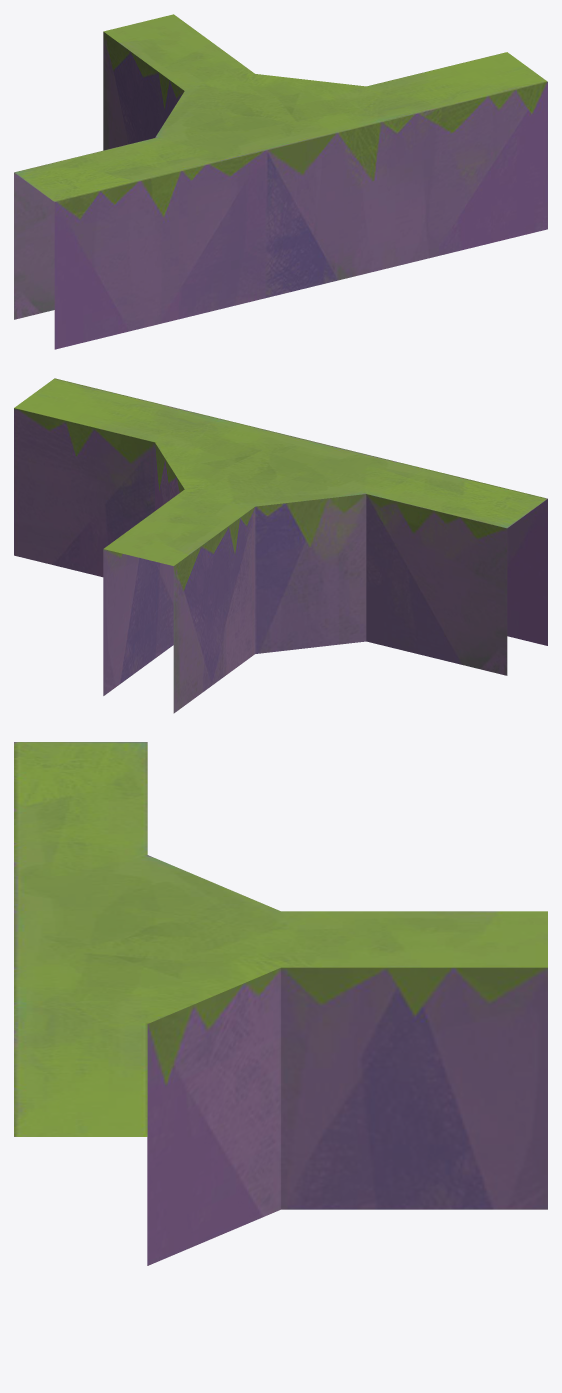
Rendered from wall_t_shape1.fbx.
3 views of the same model, one above another, from view 1: azimuth 30°, elevation 25°; view 2: azimuth 150°, elevation 25°; view 3: azimuth 270°, elevation 25° (orthographic). The views are drawn at different scales.
Visible parts, largest first — view 1: wall_t_shape3; view 2: wall_t_shape3; view 3: wall_t_shape3.
Boxes of the visible parts, bbox=[...] form: wall_t_shape3: bbox=[14, 14, 547, 349]; wall_t_shape3: bbox=[14, 378, 547, 713]; wall_t_shape3: bbox=[14, 742, 547, 1265].
Bounding box in the file's own units: 0.07 × 0.02 × 0.04.
